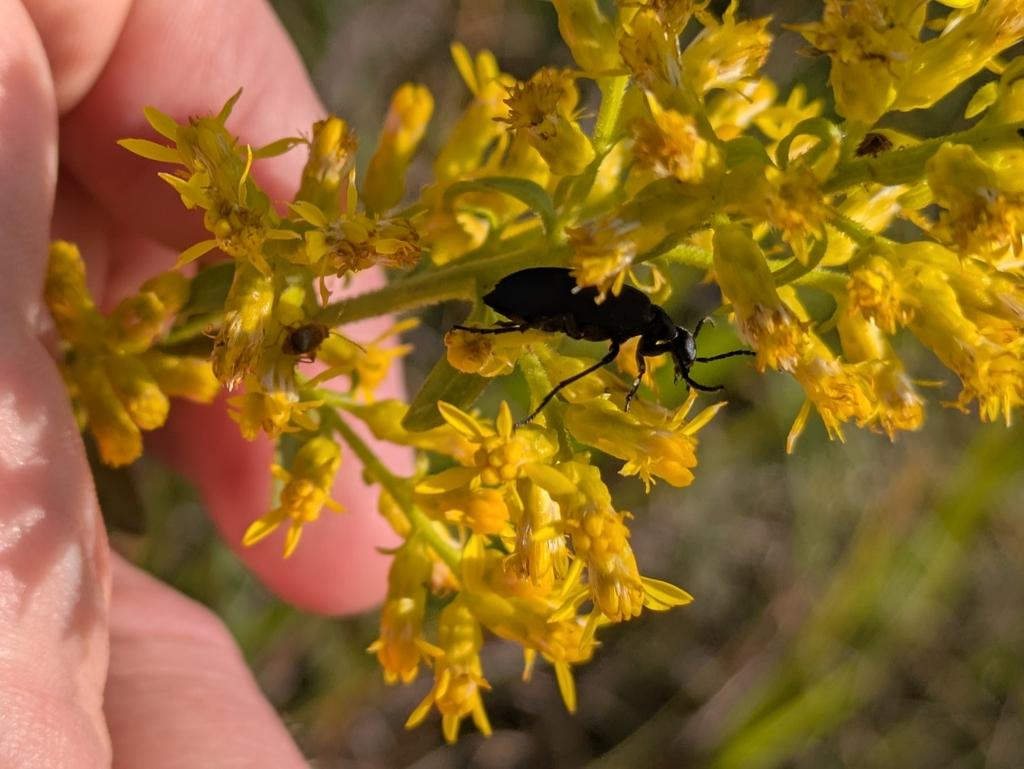blister_beetle: (434, 219, 795, 446)
